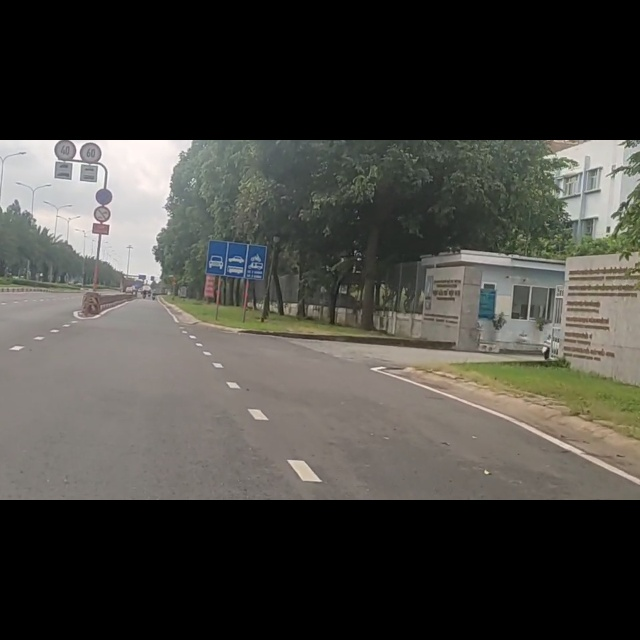bien_chi_dan: (204, 174, 269, 249), (80, 4, 102, 39), (54, 1, 77, 34), (95, 84, 113, 115), (93, 117, 110, 146)
